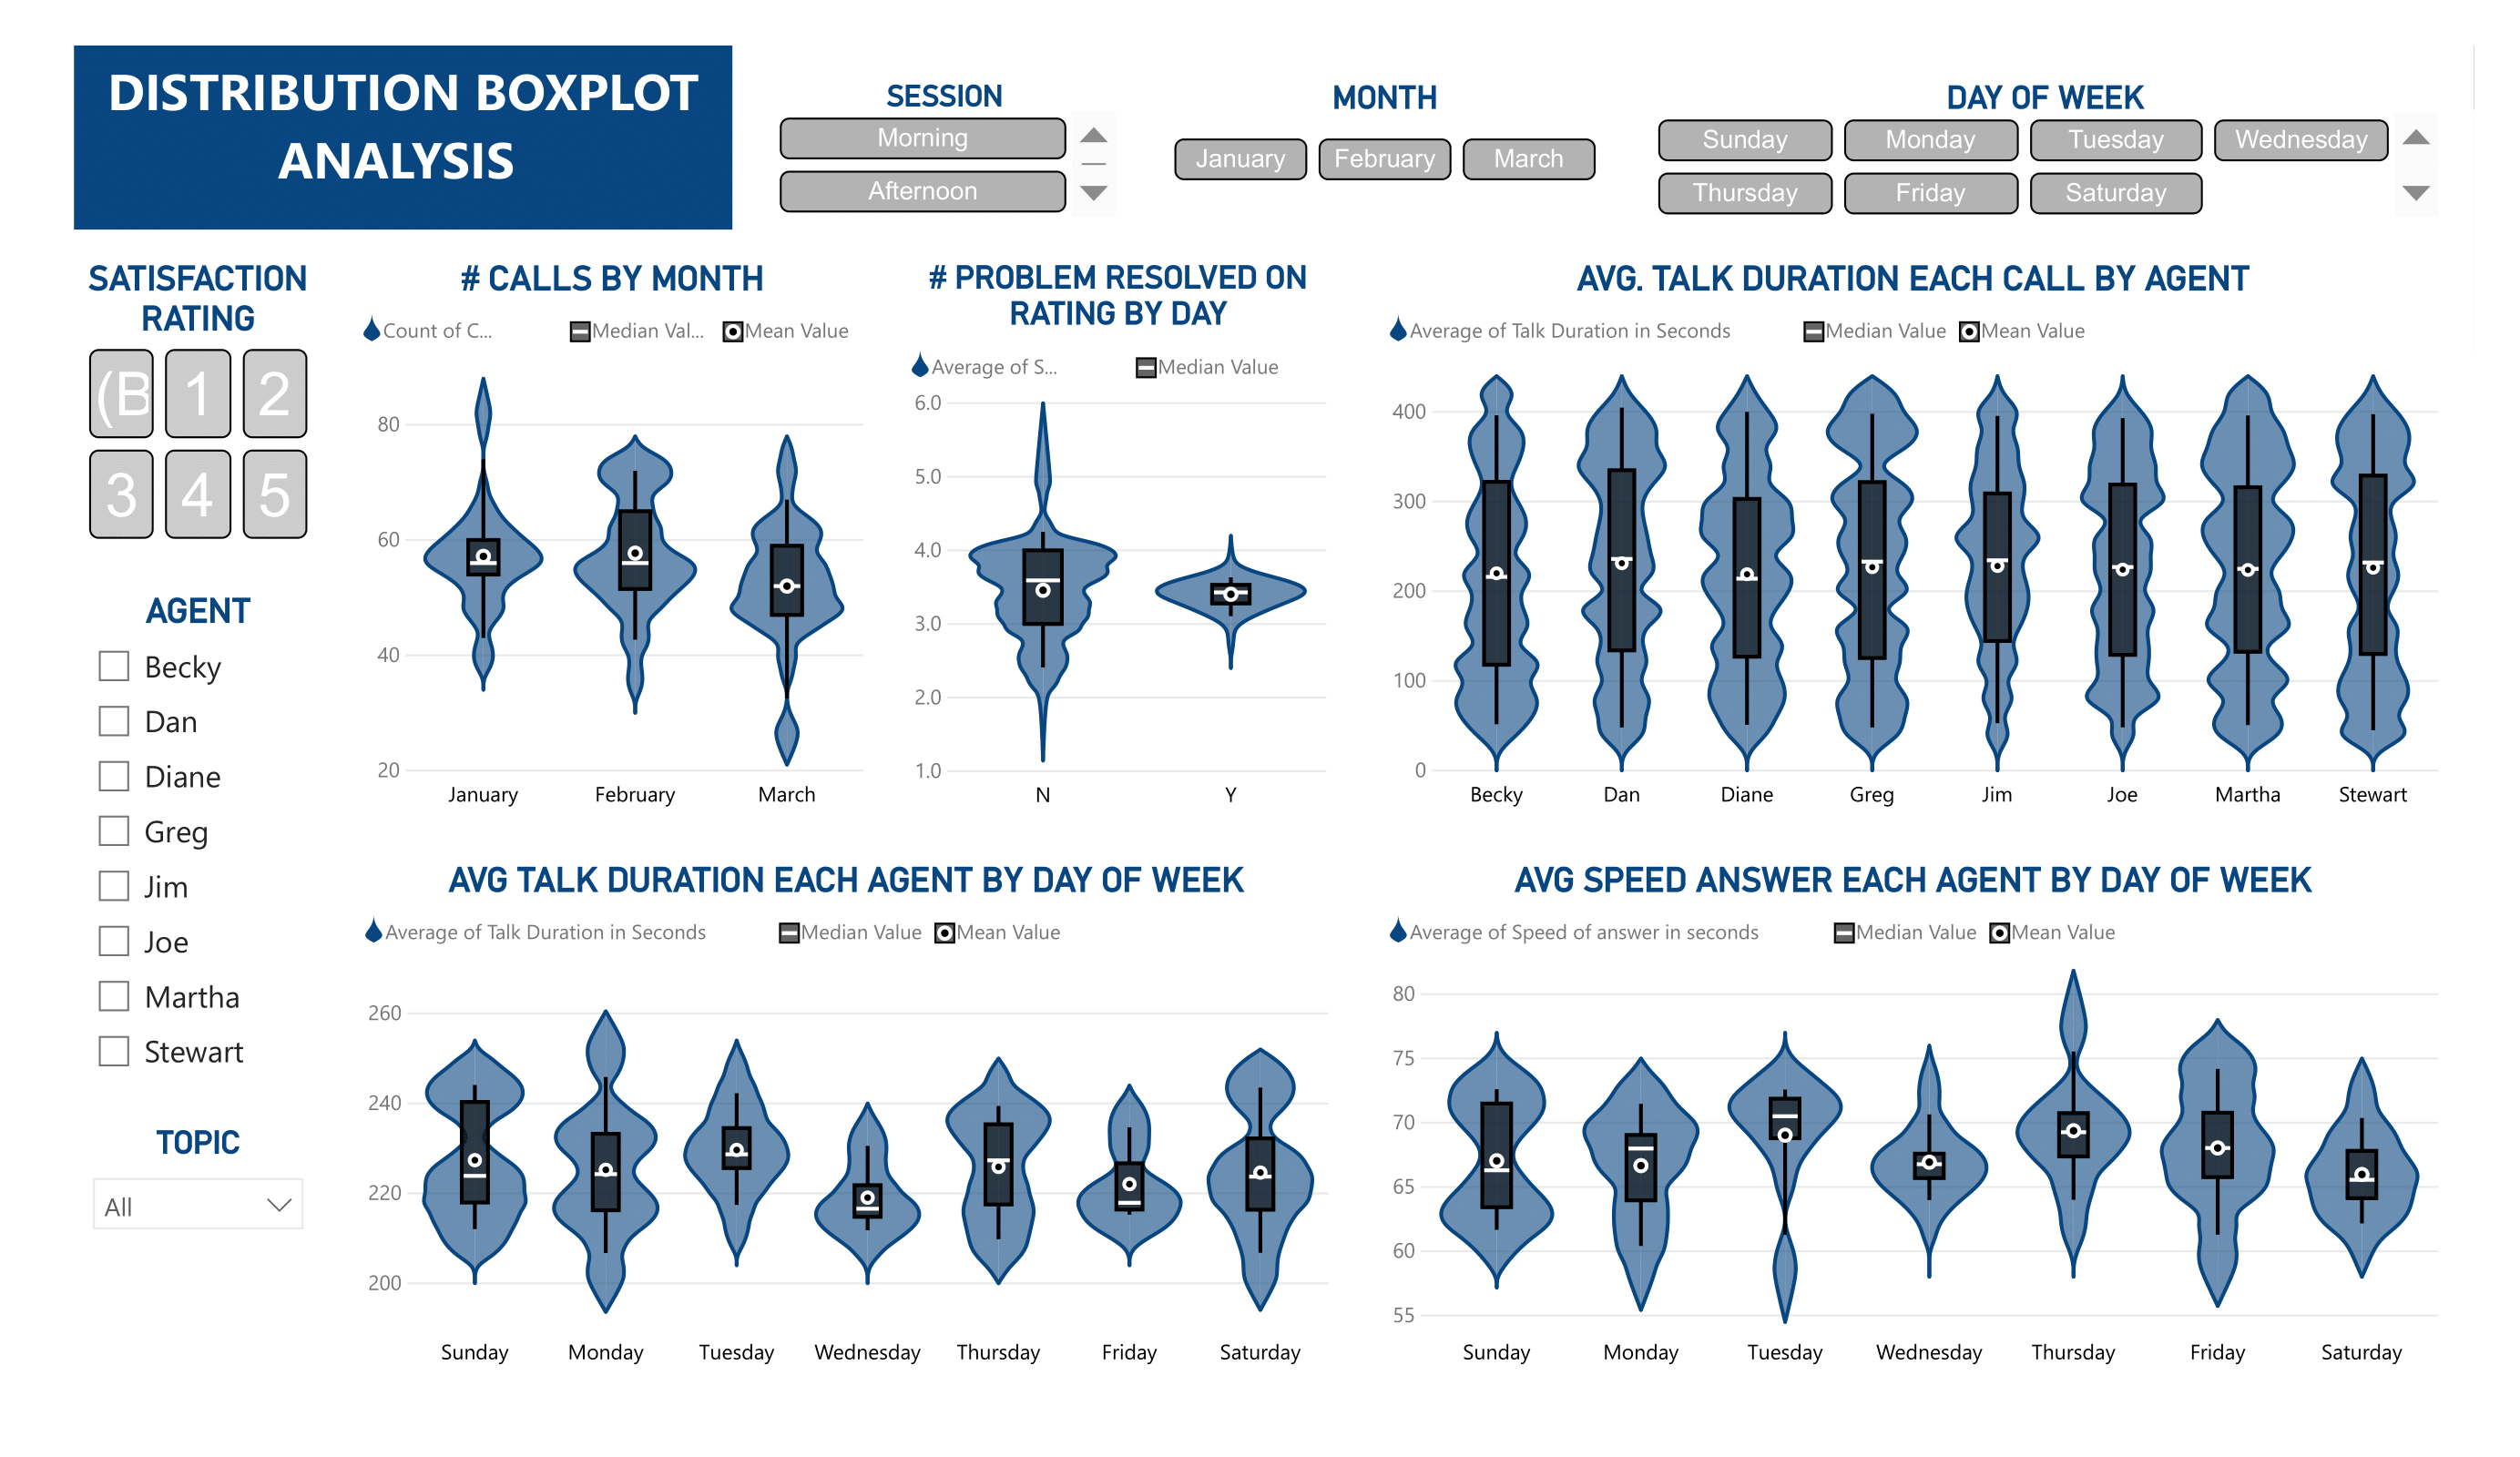

Layout of this report page (visuals, bound fields, positions):
{"tool":"powerbi","page":{"name":"Distribution_Boxplot","canvas":[1280,720],"ordinal":3},"visuals":[{"type":"violinPlot4D46EB9EB3A141D9BA2289793175D971","title":"AVG SPEED ANSWER EACH AGENT BY DAY OF WEEK","fields":{"measure":["Avg(Callcenter.Speed of answer in seconds)"],"sampling":["Callcenter.Agent"],"category":["Date.DayofWeek"]},"box":[702.6,429.3,563.4,276.7],"z":0},{"type":"violinPlot4D46EB9EB3A141D9BA2289793175D971","title":"AVG. TALK DURATION EACH CALL BY AGENT","fields":{"sampling":["Callcenter.Call Id"],"category":["Callcenter.Agent"],"measure":["Avg(Callcenter.Talk Duration in Seconds)"]},"box":[702.6,112.1,563.3,299.8],"z":1000},{"type":"violinPlot4D46EB9EB3A141D9BA2289793175D971","title":"AVG TALK DURATION EACH AGENT BY DAY OF WEEK","fields":{"category":["Date.DayofWeek"],"measure":["Avg(Callcenter.Talk Duration in Seconds)"],"sampling":["Callcenter.Agent"]},"box":[162.7,429.3,518.2,276.7],"z":2000},{"type":"ChicletSlicer1448559807354","title":"MONTH","fields":{"Category":["Date.Month"]},"box":[586.9,16.8,238.1,80.5],"z":3000},{"type":"slicer","title":"AGENT","fields":{"Values":["Callcenter.Agent"]},"box":[15.1,286.7,130.8,266.6],"z":4000},{"type":"slicer","title":"TOPIC","fields":{"Values":["Callcenter.Topic"]},"box":[15.1,568.5,130.8,137.5],"z":5000},{"type":"ChicletSlicer1448559807354","title":"SATISFACTION RATING","fields":{"Category":["Callcenter.Satisfaction rating"]},"box":[15.1,112.4,130.8,162.7],"z":6000},{"type":"textbox","box":[15.1,0,347.1,97.3],"z":7000},{"type":"ChicletSlicer1448559807354","title":"DAY OF WEEK","fields":{"Category":["Date.DayofWeek"]},"box":[841.8,16.8,424.2,80.5],"z":8000},{"type":"ChicletSlicer1448559807354","title":"SESSION","fields":{"Category":["Callcenter.Shift"]},"box":[378.7,16.9,190,80.2],"z":9000},{"type":"violinPlot4D46EB9EB3A141D9BA2289793175D971","title":"# CALLS BY MONTH","fields":{"measure":["CountNonNull(Callcenter.Call Id)"],"category":["Date.Month"],"sampling":["Date.Date"]},"box":[162,112.1,274.1,299.8],"z":10000},{"type":"violinPlot4D46EB9EB3A141D9BA2289793175D971","title":"# PROBLEM RESOLVED ON RATING BY DAY","fields":{"measure":["Avg(Callcenter.Satisfaction rating)"],"sampling":["Callcenter.Date"],"category":["Callcenter.Resolved"]},"box":[451.2,112.1,228.6,299.8],"z":11000}]}

Visuals, with their boxes on the page's 1280x720 design canvas (x1, y1, x2, y2). These are canvas units, not pixel positions in the 2520x1457 screenshot, which may show the page scaled, cropped or inside an application window:
"AVG SPEED ANSWER EACH AGENT BY DAY OF WEEK" violinPlot4D46EB9EB3A141D9BA2289793175D971: x1=703, y1=429, x2=1266, y2=706
"AVG. TALK DURATION EACH CALL BY AGENT" violinPlot4D46EB9EB3A141D9BA2289793175D971: x1=703, y1=112, x2=1266, y2=412
"AVG TALK DURATION EACH AGENT BY DAY OF WEEK" violinPlot4D46EB9EB3A141D9BA2289793175D971: x1=163, y1=429, x2=681, y2=706
"MONTH" ChicletSlicer1448559807354: x1=587, y1=17, x2=825, y2=97
"AGENT" slicer: x1=15, y1=287, x2=146, y2=553
"TOPIC" slicer: x1=15, y1=568, x2=146, y2=706
"SATISFACTION RATING" ChicletSlicer1448559807354: x1=15, y1=112, x2=146, y2=275
textbox: x1=15, y1=0, x2=362, y2=97
"DAY OF WEEK" ChicletSlicer1448559807354: x1=842, y1=17, x2=1266, y2=97
"SESSION" ChicletSlicer1448559807354: x1=379, y1=17, x2=569, y2=97
"# CALLS BY MONTH" violinPlot4D46EB9EB3A141D9BA2289793175D971: x1=162, y1=112, x2=436, y2=412
"# PROBLEM RESOLVED ON RATING BY DAY" violinPlot4D46EB9EB3A141D9BA2289793175D971: x1=451, y1=112, x2=680, y2=412
